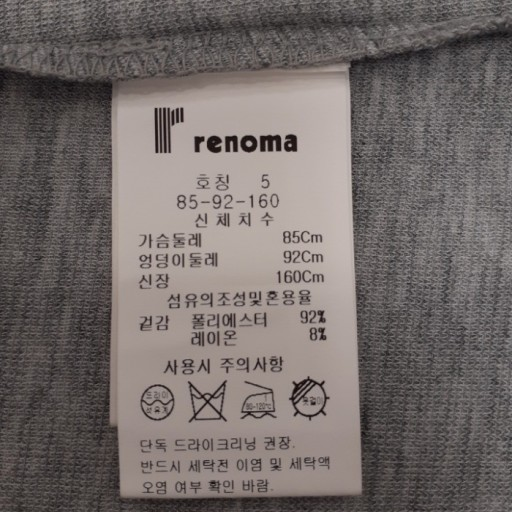KR_dry_clean_petroleum: (135, 377, 177, 422)
KR_hang_dry_in_shade: (286, 377, 330, 422)
KR_iron_low_temp_with_cloth: (238, 376, 283, 423)
KR_no_wash: (188, 377, 231, 423)
